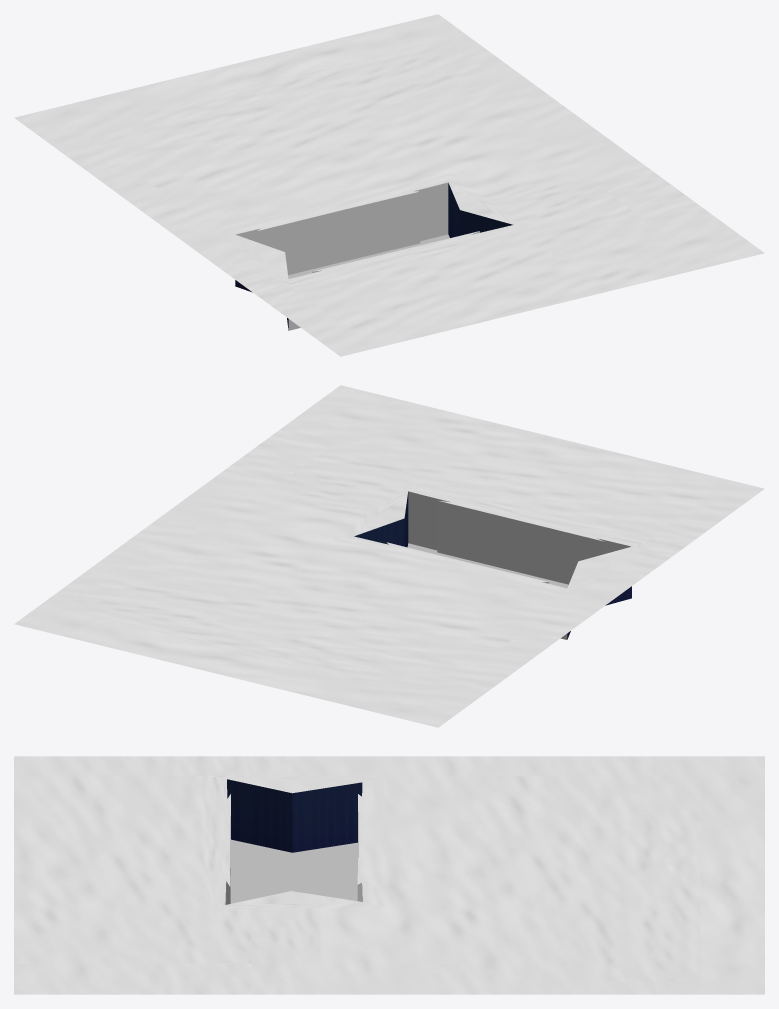
File: trapS04.FBX
3 views of the same model, one above another, from view 1: azimuth 30°, elevation 25°; view 2: azimuth 150°, elevation 25°; view 3: azimuth 270°, elevation 25° (orthographic). The views are drawn at different scales.
Parts seen in each view (by area): view 1: modelRoad060; view 2: modelRoad060; view 3: modelRoad060.
Boxes of the visible parts, left/top/right/bottom form: modelRoad060: left=14, top=14, right=764, bottom=356; modelRoad060: left=14, top=385, right=764, bottom=727; modelRoad060: left=14, top=756, right=764, bottom=994.
Size of the model in its own units: 600 by 70 by 800.
